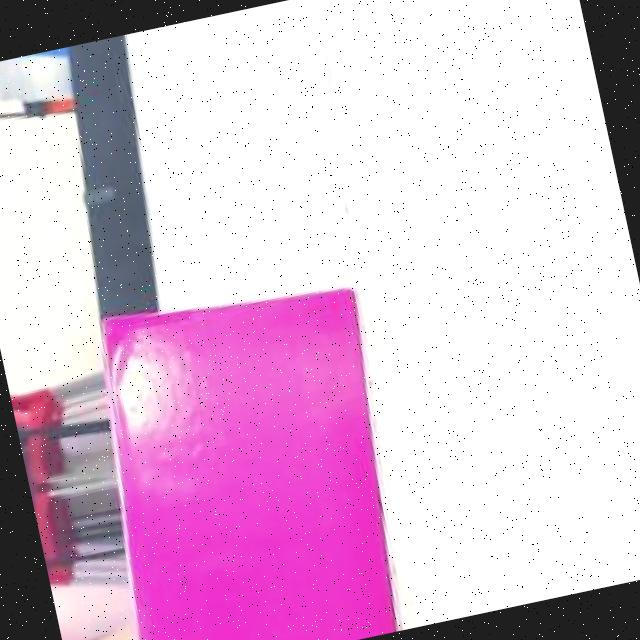xparking: (97, 279, 402, 640)
